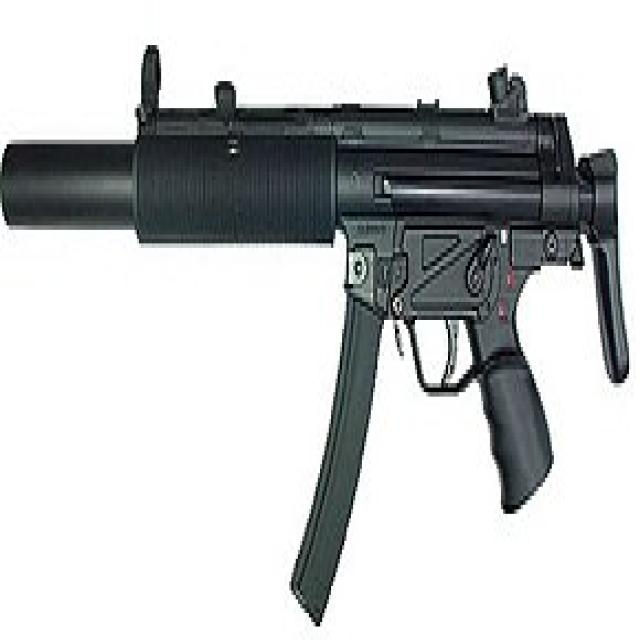SMG: (2, 45, 636, 626)
